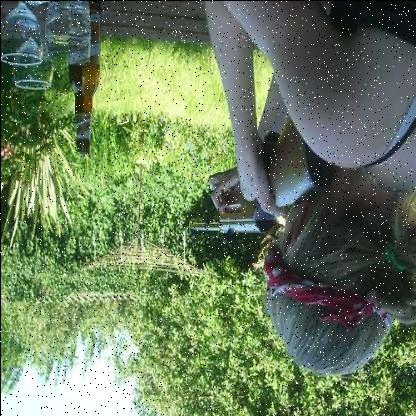rifle: (170, 119, 329, 237)
